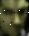without_mask: (1, 2, 29, 36)
